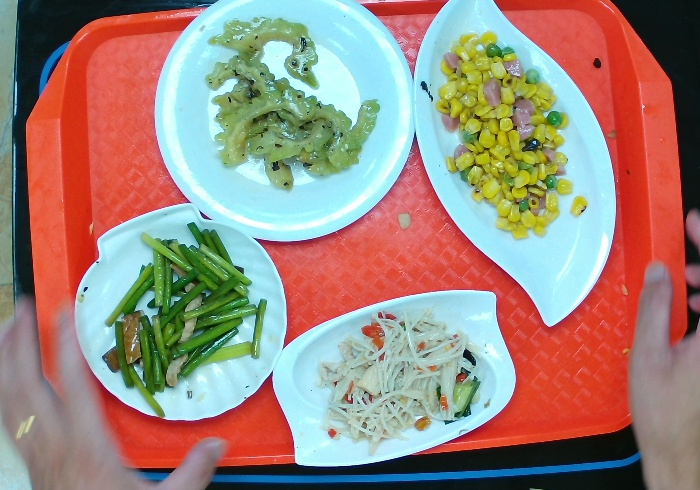RJxy-Bei_Ke_Wan: (73, 201, 290, 424)
RJxy-Jian_Jiao_Fang_Die: (270, 281, 518, 470)
RJxy-Jian_Jiao_Pan: (412, 1, 620, 327)
RJxy-Yuan_Pan: (154, 1, 423, 245)
